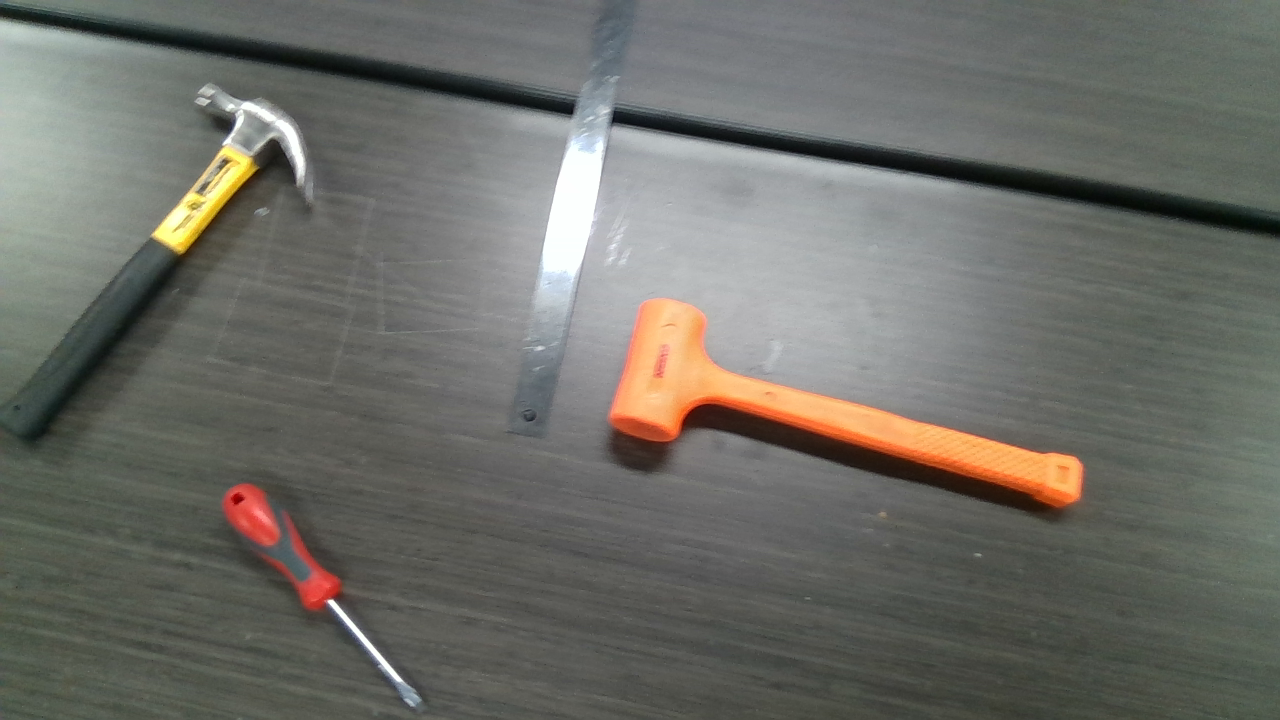Orange Hammer: (615, 296, 1079, 508)
